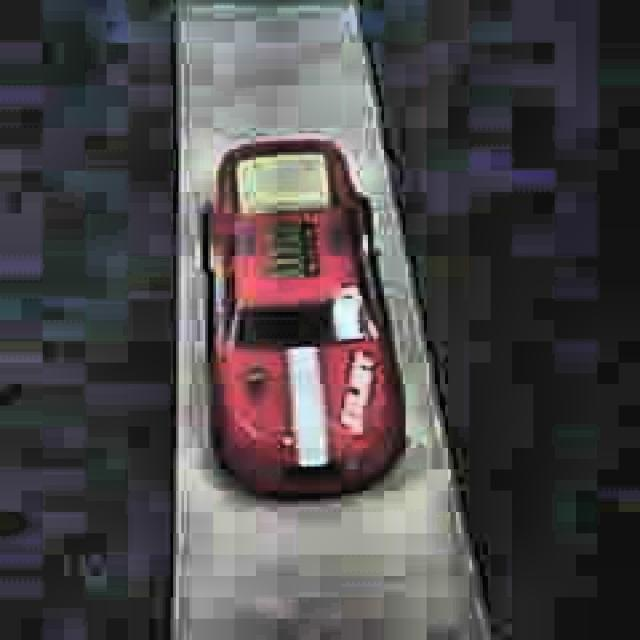car: (200, 132, 408, 508)
